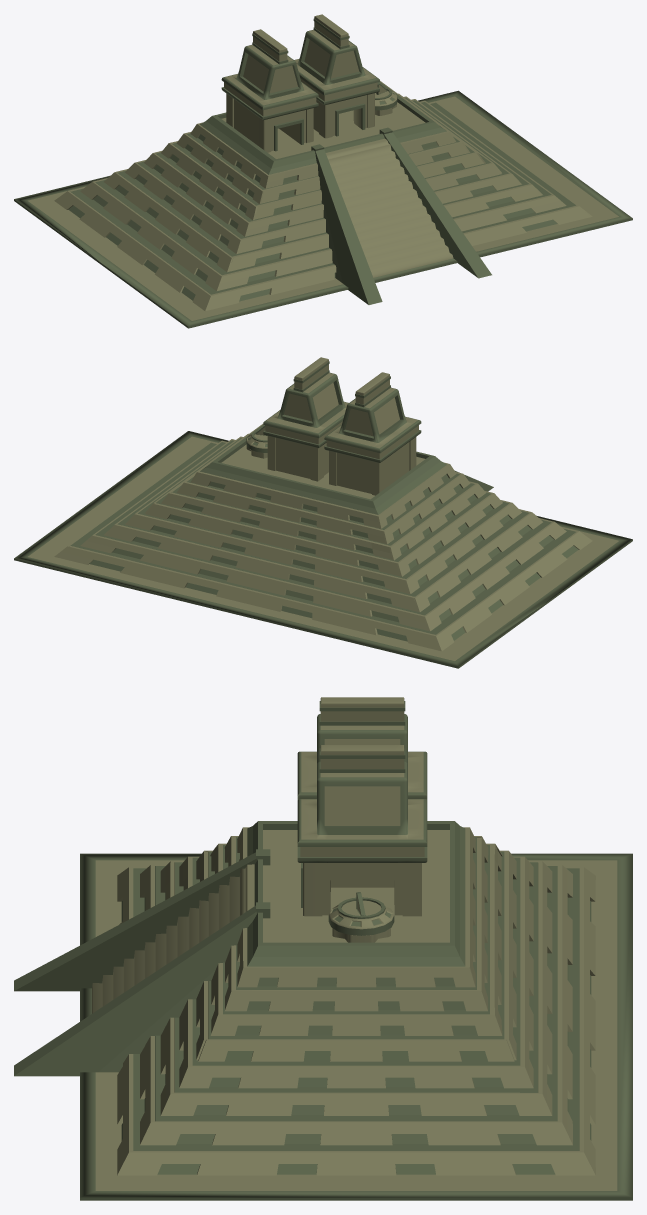
Rendered from pyramid_maya02_observatory.fbx.
3 renders of one model, top to bottom at view 1: azimuth 30°, elevation 25°; view 2: azimuth 150°, elevation 25°; view 3: azimuth 270°, elevation 25°, orthographic. The views are drawn at different scales.
Parts seen in each view (by area): view 1: pyramid_maya02ground, pyramid_maya02walls, pyramid_maya02railing1, observatory012, pyramid_maya02railing, observatory011, observatory01; view 2: pyramid_maya02walls, pyramid_maya02ground, observatory012, observatory011, observatory01; view 3: pyramid_maya02ground, pyramid_maya02walls, pyramid_maya02railing, observatory011, observatory012, pyramid_maya02railing1, observatory01.
Boxes of the visible parts, bbox=[...] form: pyramid_maya02ground: bbox=[14, 82, 632, 328]; pyramid_maya02walls: bbox=[54, 81, 592, 311]; pyramid_maya02railing1: bbox=[325, 138, 453, 277]; observatory012: bbox=[221, 29, 318, 152]; pyramid_maya02railing: bbox=[311, 127, 491, 304]; observatory011: bbox=[294, 14, 379, 138]; observatory01: bbox=[375, 87, 397, 115]; pyramid_maya02walls: bbox=[54, 424, 592, 651]; pyramid_maya02ground: bbox=[14, 424, 632, 668]; observatory012: bbox=[324, 372, 421, 495]; observatory011: bbox=[263, 357, 348, 481]; observatory01: bbox=[246, 429, 267, 458]; pyramid_maya02ground: bbox=[80, 821, 632, 1200]; pyramid_maya02walls: bbox=[117, 827, 595, 1175]; pyramid_maya02railing: bbox=[14, 849, 270, 1076]; observatory011: bbox=[297, 745, 427, 916]; observatory012: bbox=[297, 697, 427, 799]; pyramid_maya02railing1: bbox=[92, 864, 254, 1013]; observatory01: bbox=[328, 897, 394, 942].
Size of the model in its own units: 8.78 by 3.45 by 6.68.
